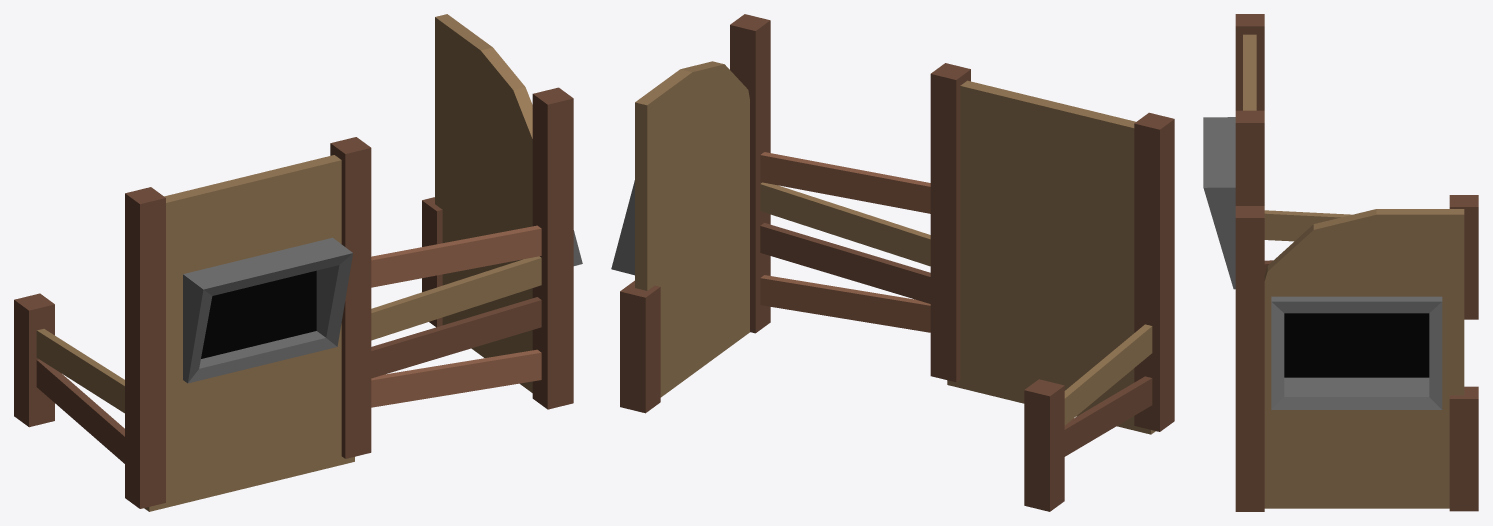
Rendered from Seperated_Woodgatherer.fbx.
3 renders of one model, left to right at view 1: azimuth 30°, elevation 25°; view 2: azimuth 150°, elevation 25°; view 3: azimuth 270°, elevation 25°, orthographic. The views are drawn at different scales.
Visible parts, largest first — view 1: Cube.036, Cube.048, Cube.040, Cube.038, Cube.043, Cube.047, Cube.044, Cube.046, Cube.045, Cube.039, Cube.035, Cube.041 (+1 smaller); view 2: Cube.036, Cube.048, Cube.040, Cube.043, Cube.038, Cube.047, Cube.044, Cube.046, Cube.045, Cube.039, Cube.037, Cube.041 (+1 smaller); view 3: Cube.048, Cube.038, Cube.036, Cube.037, Cube.043, Cube.039, Cube.040, Cube.041.
Part boxes in pixels (<box>): Cube.036: <box>144,155,354,511</box>; Cube.048: <box>435,14,582,392</box>; Cube.040: <box>125,187,165,508</box>; Cube.038: <box>532,87,573,409</box>; Cube.043: <box>330,137,371,458</box>; Cube.047: <box>371,256,541,340</box>; Cube.044: <box>371,297,541,378</box>; Cube.046: <box>371,225,541,287</box>; Cube.045: <box>371,349,541,407</box>; Cube.039: <box>14,293,54,427</box>; Cube.035: <box>36,359,124,463</box>; Cube.041: <box>36,329,124,413</box>; Cube.036: <box>947,80,1155,434</box>; Cube.048: <box>611,61,749,397</box>; Cube.040: <box>1134,112,1174,431</box>; Cube.043: <box>930,63,970,382</box>; Cube.038: <box>730,14,770,333</box>; Cube.047: <box>760,182,930,266</box>; Cube.044: <box>760,223,930,303</box>; Cube.046: <box>760,152,930,213</box>; Cube.045: <box>760,275,930,332</box>; Cube.039: <box>1024,379,1064,511</box>; Cube.037: <box>620,280,660,413</box>; Cube.041: <box>1064,324,1152,425</box>; Cube.048: <box>1264,209,1464,508</box>; Cube.038: <box>1235,206,1264,511</box>; Cube.036: <box>1203,34,1256,289</box>; Cube.037: <box>1449,386,1478,511</box>; Cube.043: <box>1235,110,1264,205</box>; Cube.039: <box>1449,195,1478,319</box>; Cube.040: <box>1235,14,1264,110</box>; Cube.041: <box>1264,210,1351,241</box>.
Bounding box in the file's own units: 317 × 206 × 170.
